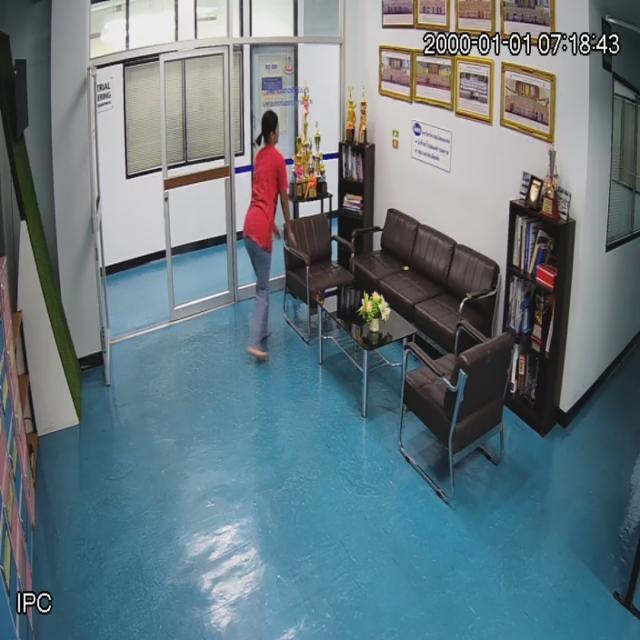normal: (244, 111, 288, 358)
